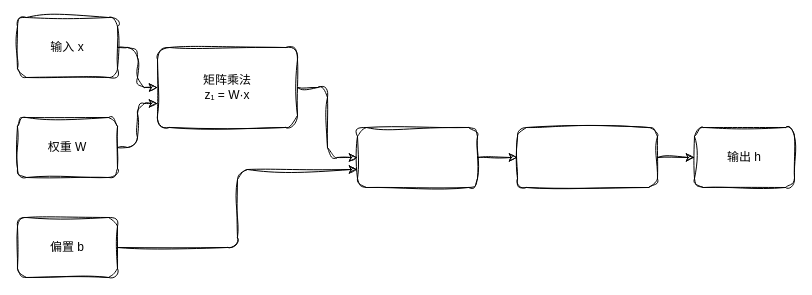
Some shapes in this 812 by 295 pixel diagram are drawn without their labels. The centre of each missing label's shape, as x and y in pixels:
"加法 z = z₁ + b" goes at point 417,157.
"激活函数 h = φ(z)" goes at point 587,157.
